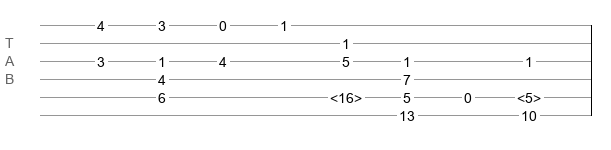0: (219, 18, 227, 28), (464, 90, 472, 100)
1: (158, 54, 166, 64), (280, 18, 288, 28), (342, 36, 350, 46), (403, 54, 411, 64), (525, 54, 533, 64)
10: (521, 108, 537, 118)
13: (399, 108, 415, 118)
3: (97, 54, 105, 64), (158, 18, 166, 28)
4: (97, 18, 105, 28), (158, 72, 166, 82), (219, 54, 227, 64)
5: (342, 54, 350, 64), (403, 90, 411, 100)
6: (158, 90, 166, 100)
7: (403, 72, 411, 82)
harmonic: (330, 90, 362, 100), (517, 90, 541, 100)
